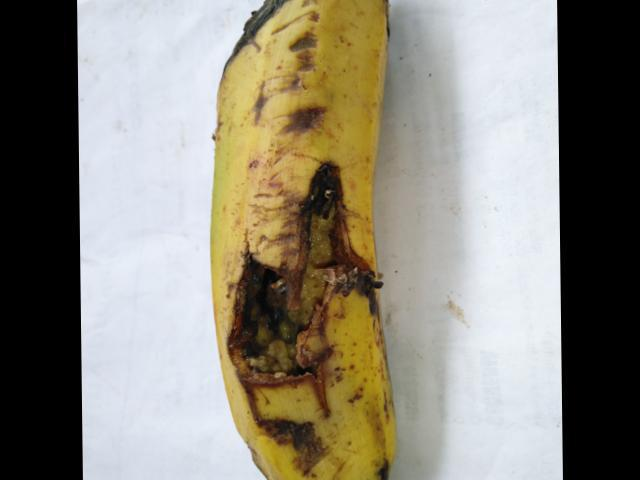rotten: (202, 139, 415, 460), (219, 0, 356, 84)
